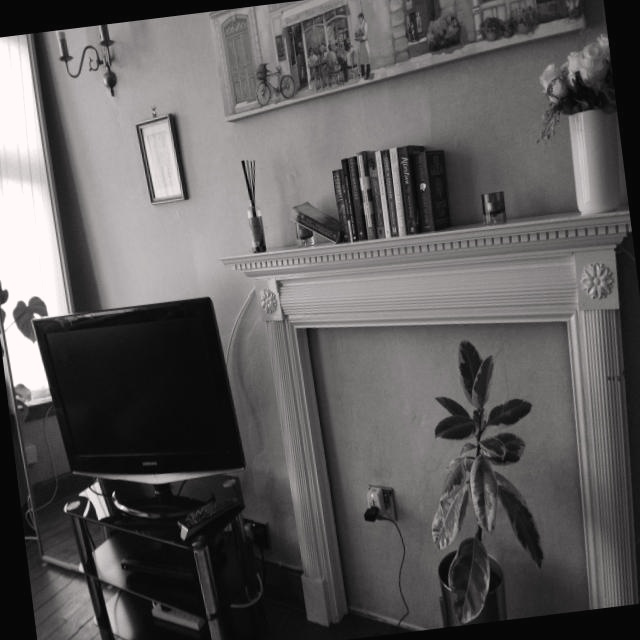book: (334, 149, 447, 241)
lamp: (56, 24, 118, 96)
monitor: (32, 297, 245, 519)
pillow: (225, 212, 630, 281)
stove: (63, 477, 264, 640)
